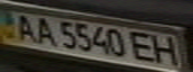0: (106, 27, 130, 60)
4: (90, 25, 109, 56)
5: (54, 19, 78, 51), (72, 21, 93, 54)
A: (9, 12, 39, 43), (30, 16, 57, 47)
E: (127, 29, 160, 64)
H: (148, 34, 184, 69)
